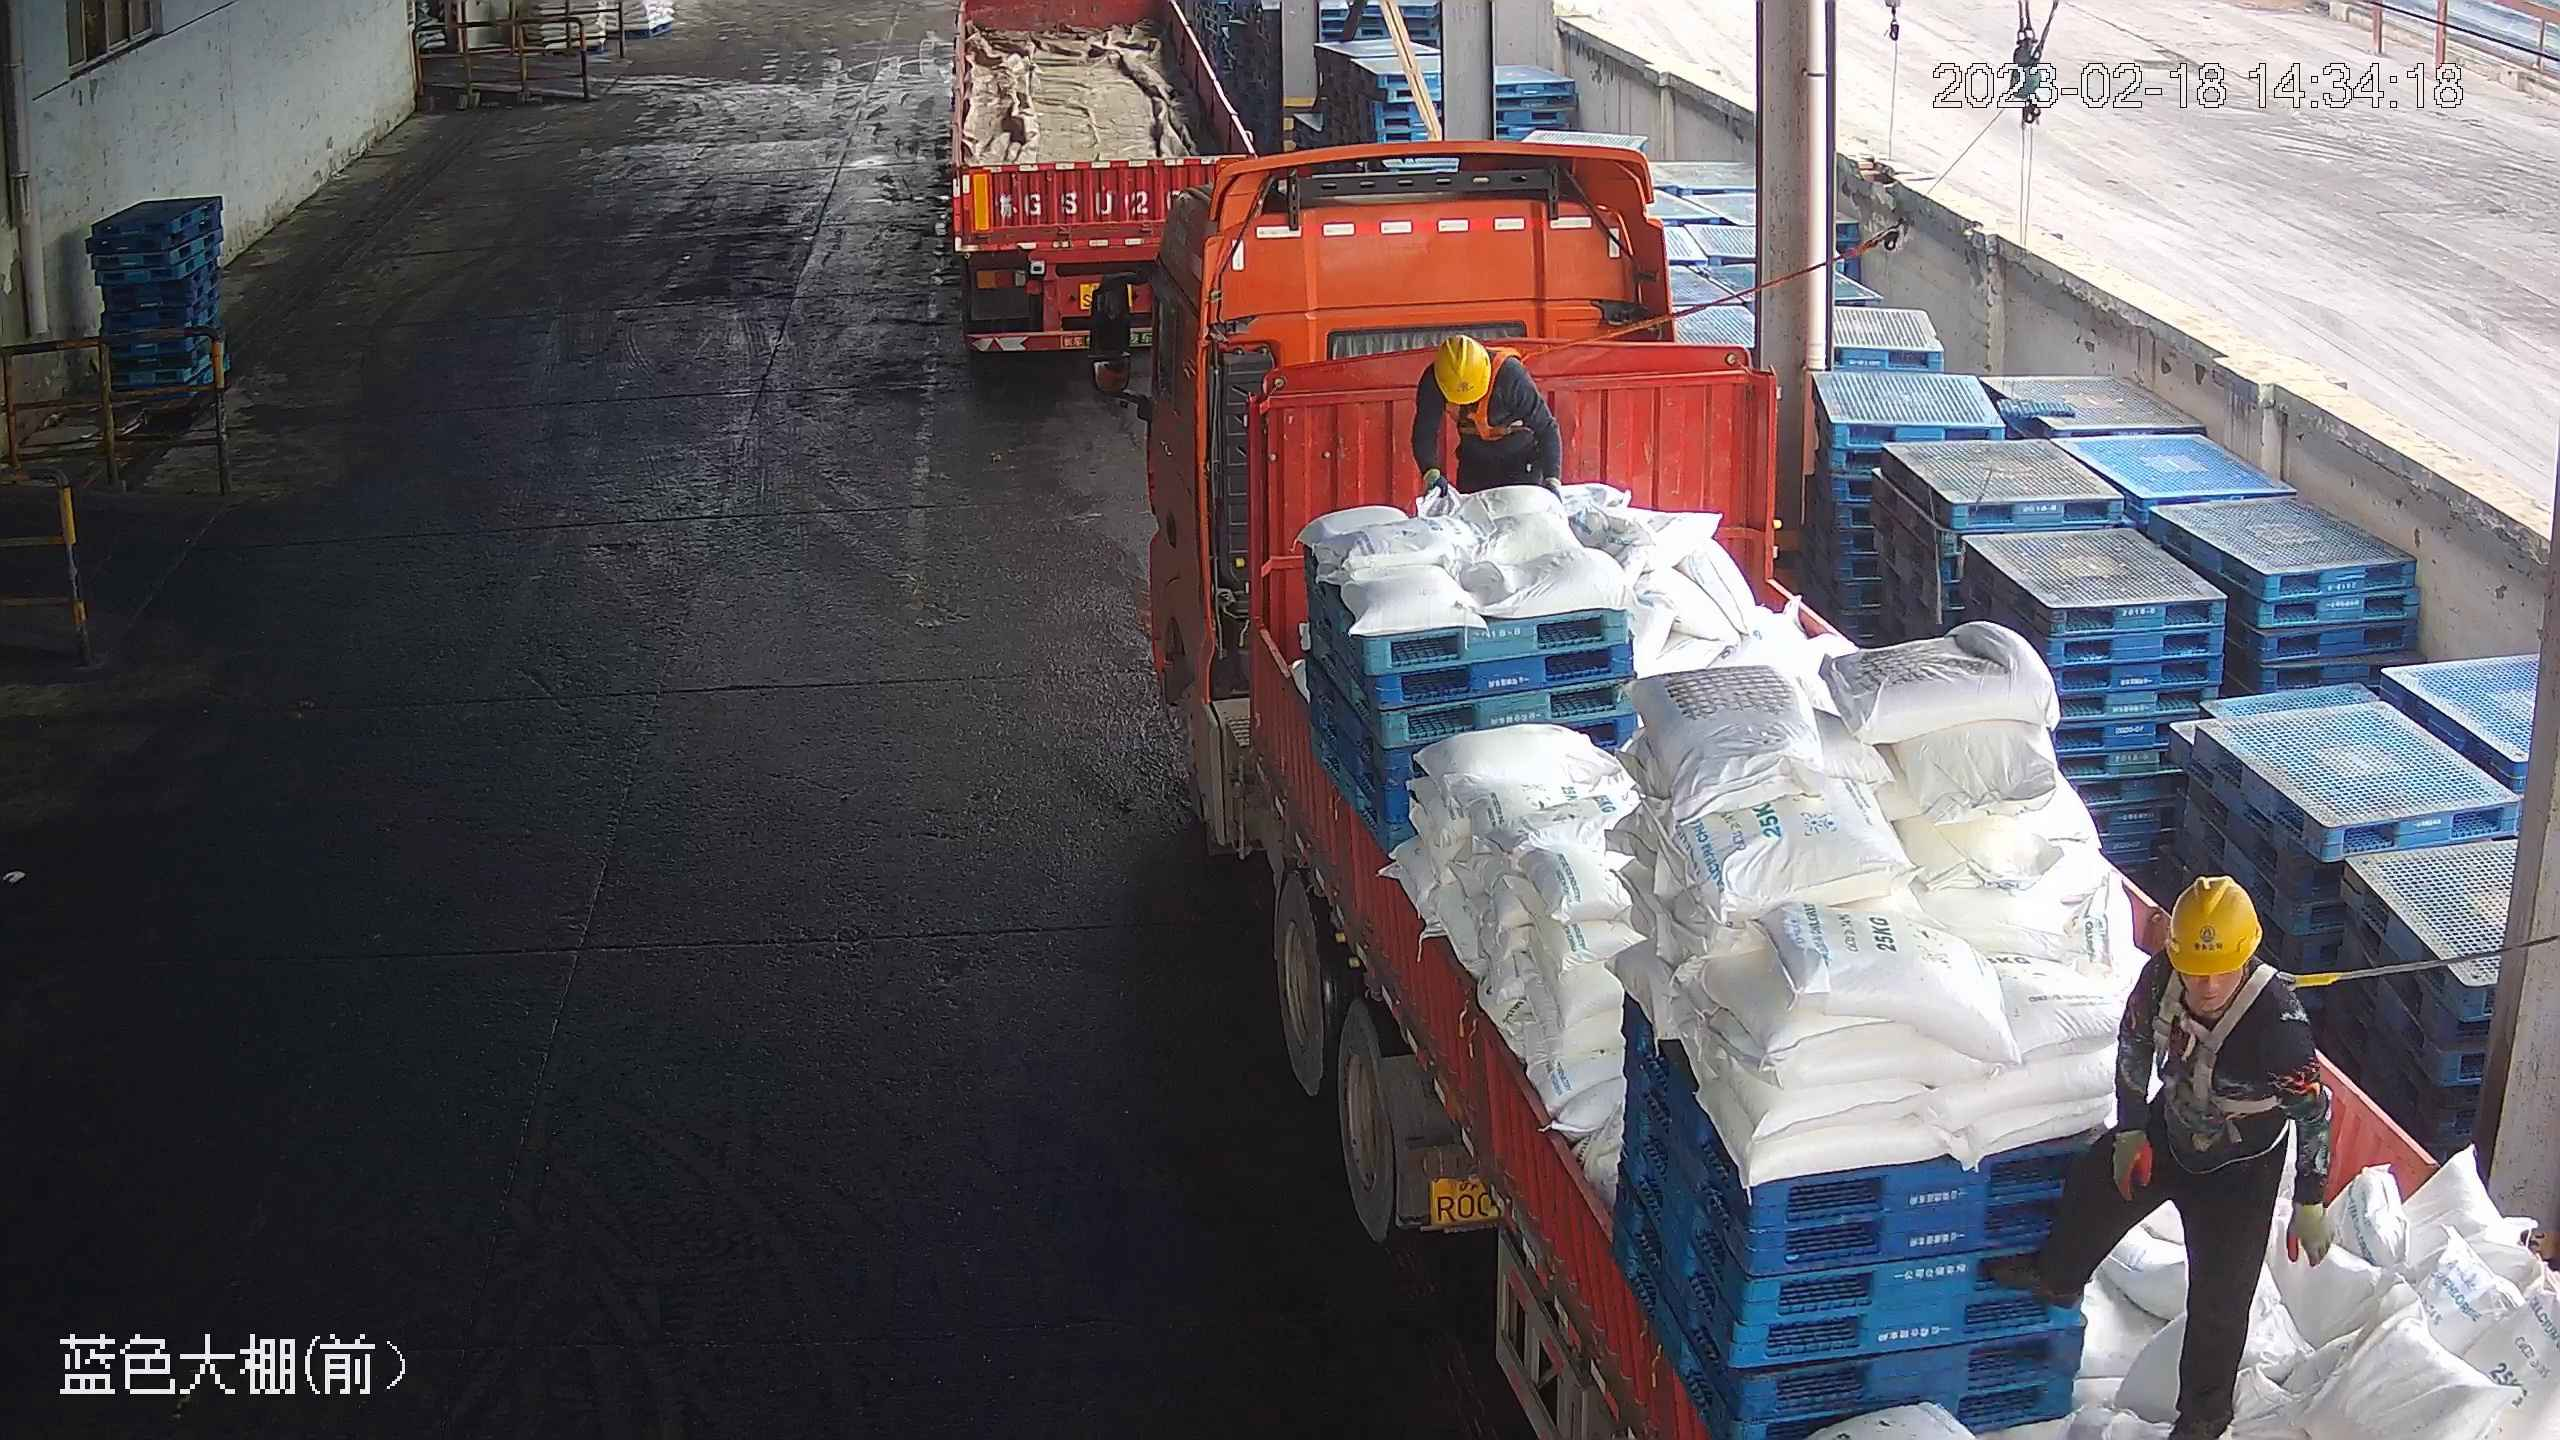belt: (2144, 967, 2347, 1117), (1467, 352, 1544, 447)
head: (2110, 879, 2298, 1054), (1430, 333, 1545, 430)
helmet: (2166, 874, 2269, 983), (1430, 332, 1490, 403)
people: (1412, 332, 1574, 510)
truck: (1086, 133, 2560, 1440), (1966, 874, 2335, 1440), (940, 1, 1264, 371)
